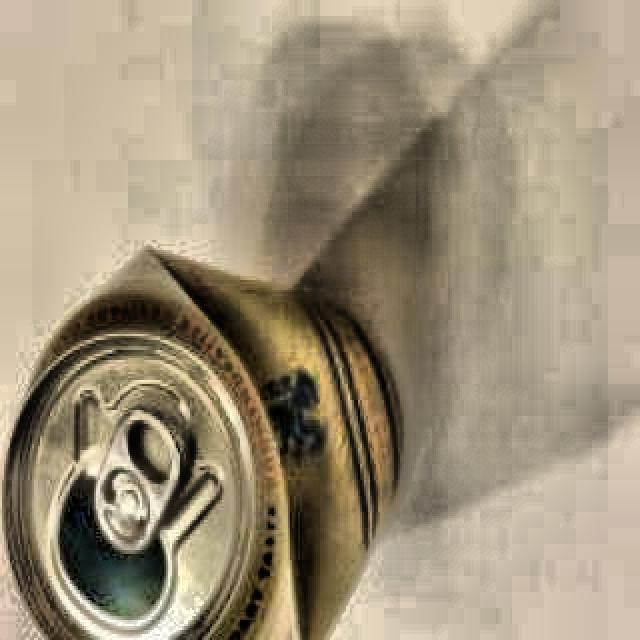metal: (0, 246, 411, 640)
